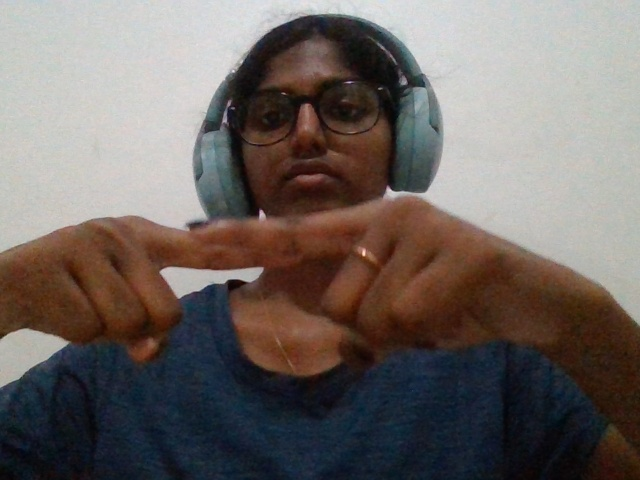Sign: (6, 145, 602, 436)
